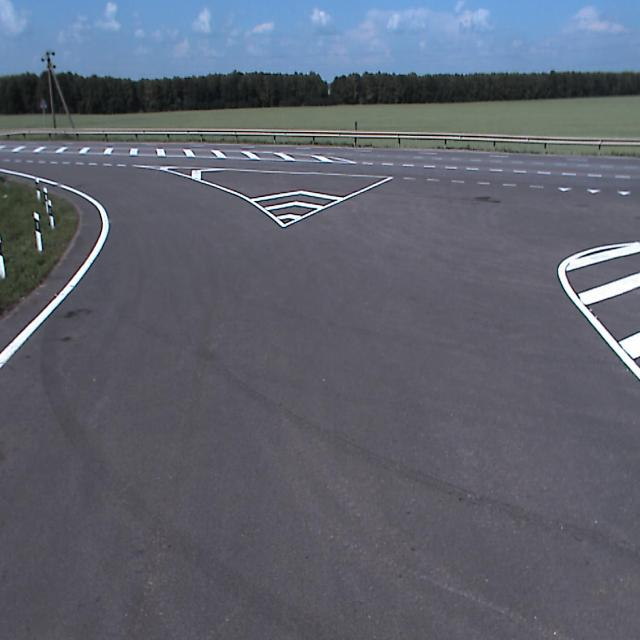road: (0, 140, 639, 639)
